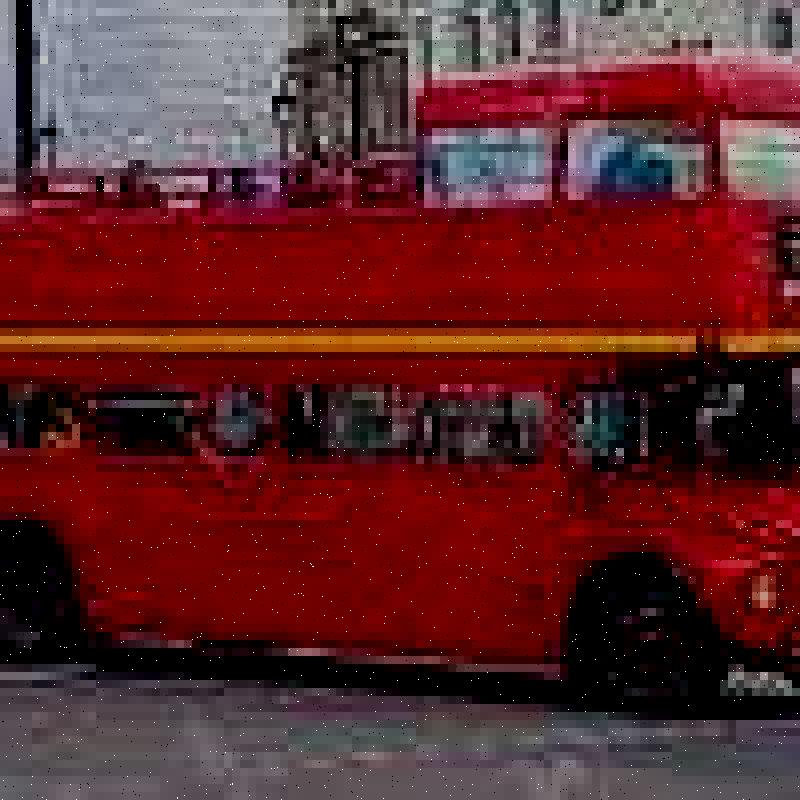bus: (0, 37, 786, 751)
